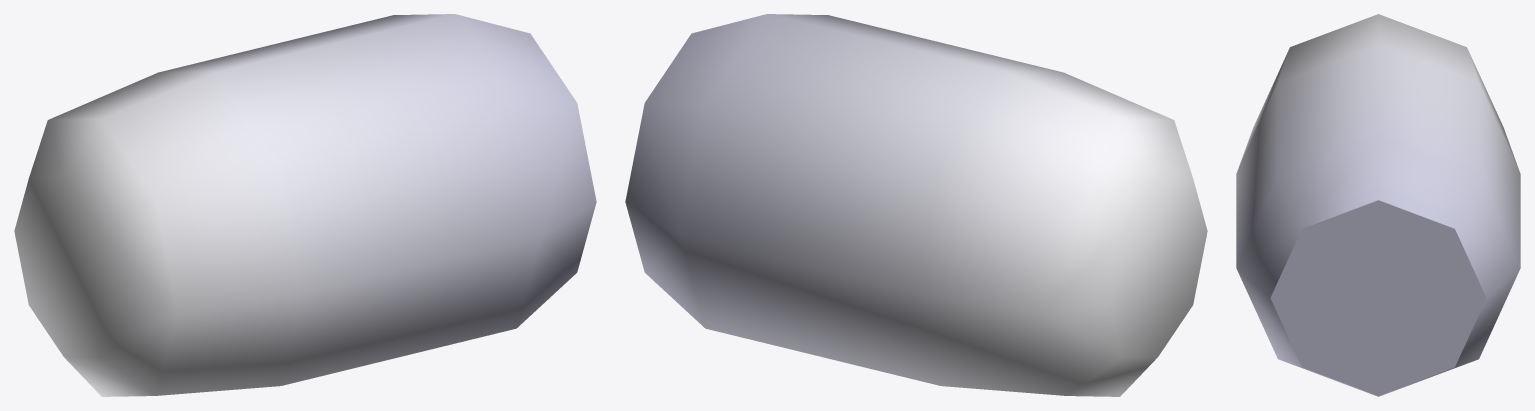
The model's file is arm-right.004_lev2.glb.
The picture shows the model from 3 angles, left to right: view 1: azimuth 30°, elevation 25°; view 2: azimuth 150°, elevation 25°; view 3: azimuth 270°, elevation 25°; orthographic projection. The views are drawn at different scales.
Visible parts, largest first — view 1: arm-right.004_lev2; view 2: arm-right.004_lev2; view 3: arm-right.004_lev2.
Boxes of the visible parts, bbox=[...] form: arm-right.004_lev2: bbox=[14, 14, 596, 396]; arm-right.004_lev2: bbox=[625, 14, 1207, 396]; arm-right.004_lev2: bbox=[1236, 14, 1520, 396].
Size of the model in its own units: 0.3094 by 0.2 by 0.2.
Materials: 1 (1 with a texture image).
